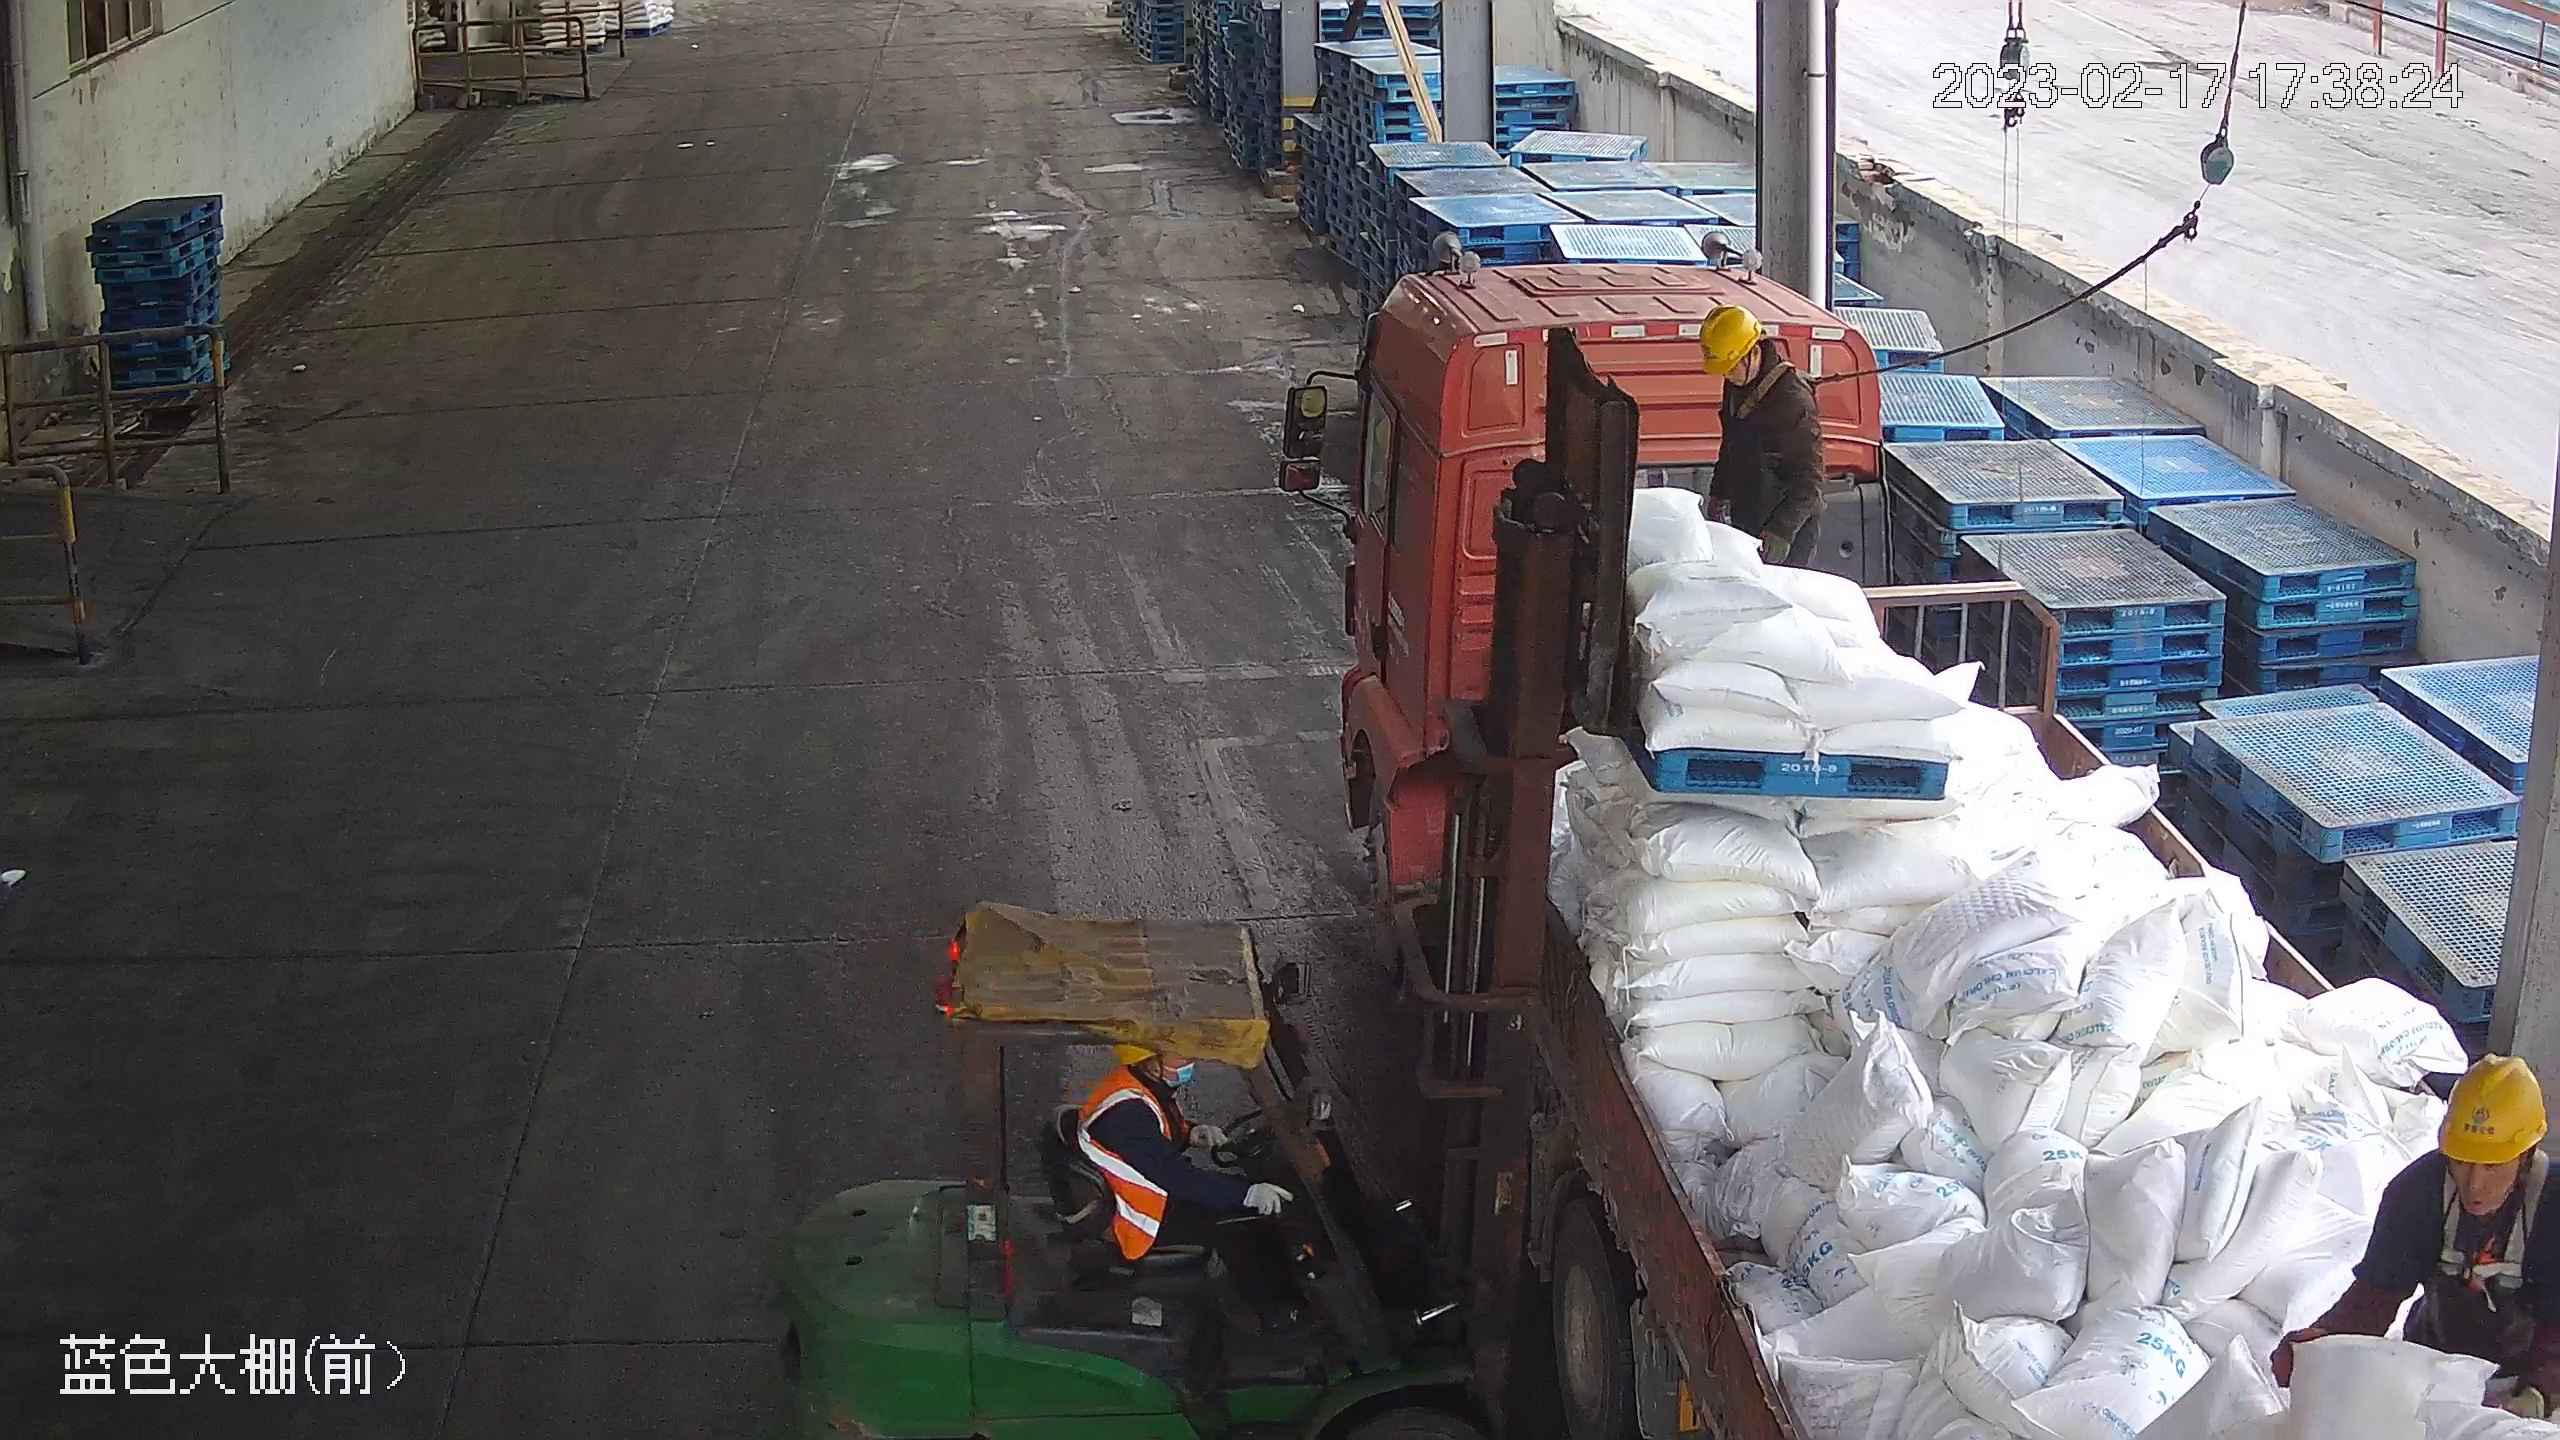belt: (2426, 1156, 2557, 1300), (1721, 347, 1819, 425)
head: (2374, 1052, 2560, 1283), (1697, 303, 1820, 435)
helmet: (2431, 1052, 2552, 1168), (1695, 299, 1764, 373)
people: (1070, 1035, 1312, 1333), (1693, 303, 1832, 578)
truck: (1294, 202, 2557, 1440)
